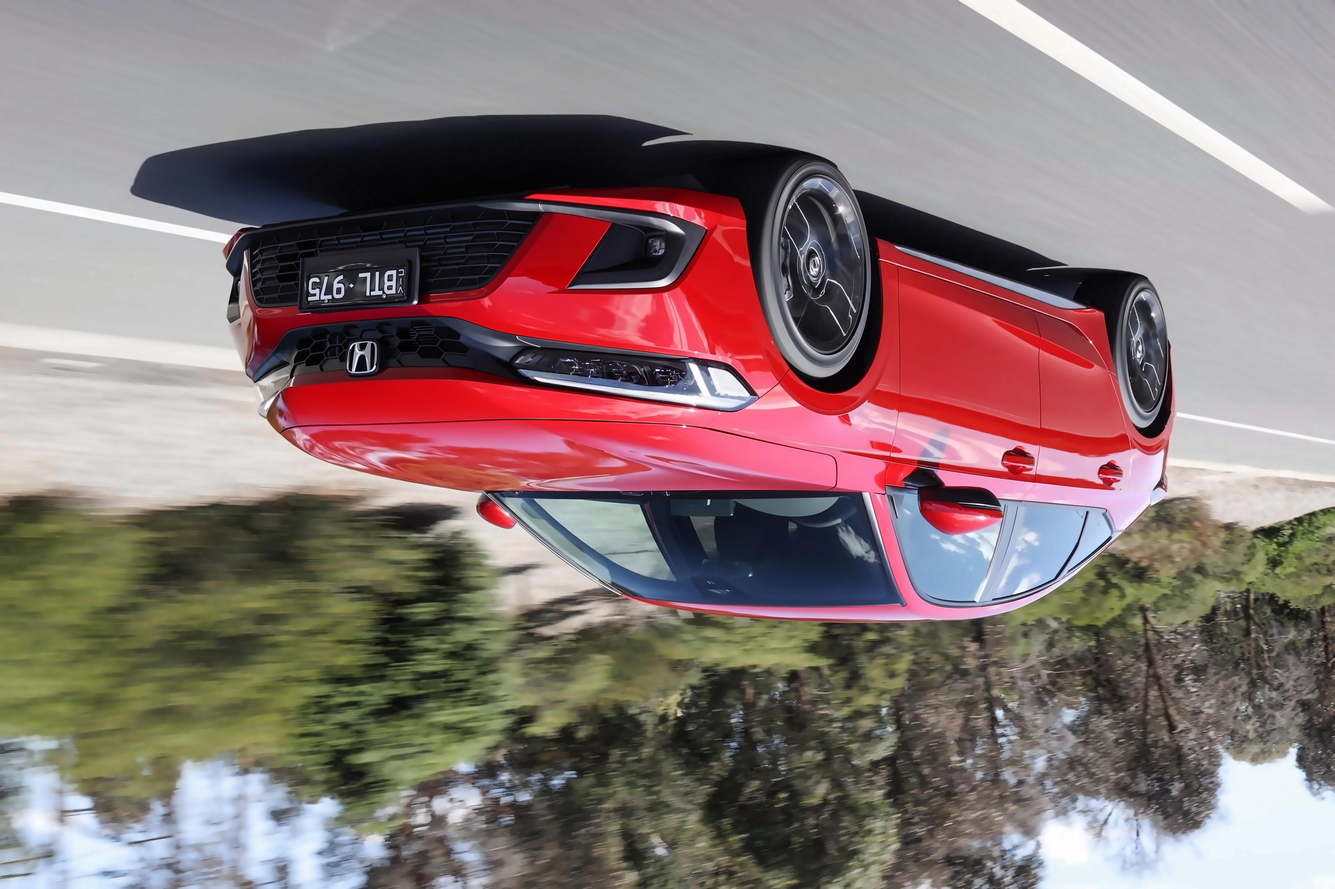Car hood: (269, 418, 843, 496)
Driver-s door - -F-R-: (873, 232, 1055, 619)
Fender - -F-R-: (684, 333, 922, 501)
Fender - -R-R-: (1095, 386, 1182, 525)
Front bumper: (226, 174, 798, 409)
Headlight - -L-: (244, 357, 297, 419)
Headlight - -R-: (509, 344, 763, 417)
Passenger-s door - -R-R-: (974, 264, 1135, 637)
Side bumper - -R-: (859, 234, 1132, 356)
Side mirror - -R-: (917, 469, 1006, 534)
